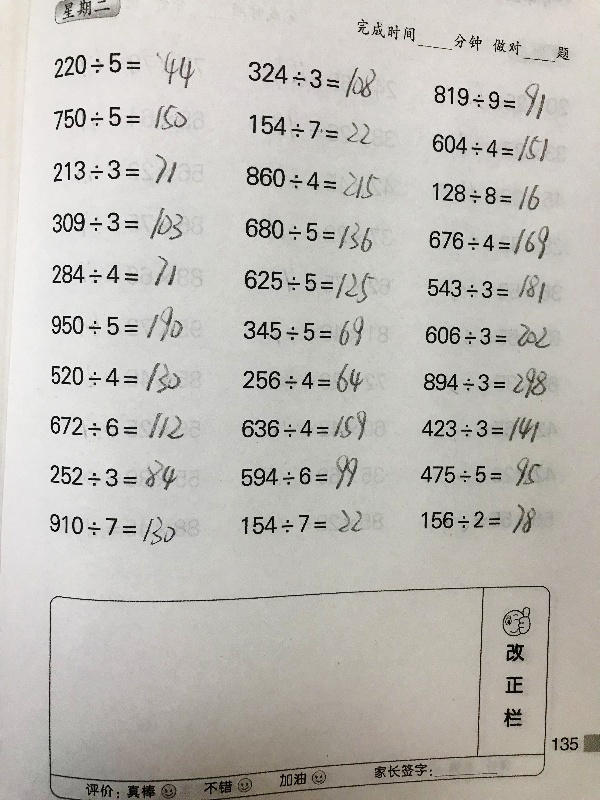equation: (49, 49, 200, 92), (241, 212, 380, 257), (239, 259, 378, 304), (235, 307, 374, 352), (49, 248, 187, 292), (428, 77, 552, 125), (48, 306, 186, 349), (46, 509, 198, 548), (420, 359, 557, 401), (48, 207, 191, 247), (416, 456, 559, 495), (413, 500, 556, 539), (242, 164, 383, 202), (238, 451, 362, 494), (51, 102, 192, 139), (426, 222, 553, 263), (48, 359, 185, 397), (244, 61, 379, 98), (237, 408, 370, 445), (240, 360, 373, 397), (418, 413, 561, 447), (46, 454, 181, 490), (46, 407, 187, 440), (53, 154, 181, 190), (424, 271, 549, 307), (238, 506, 378, 537), (428, 130, 551, 164), (421, 318, 553, 349), (246, 114, 375, 144), (428, 180, 543, 213)
